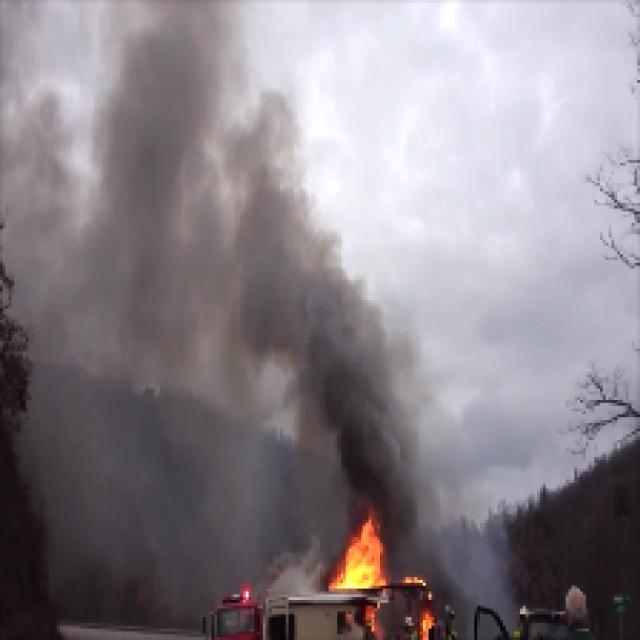fire: (326, 521, 384, 590)
smoke: (250, 252, 336, 372), (336, 369, 400, 502)
